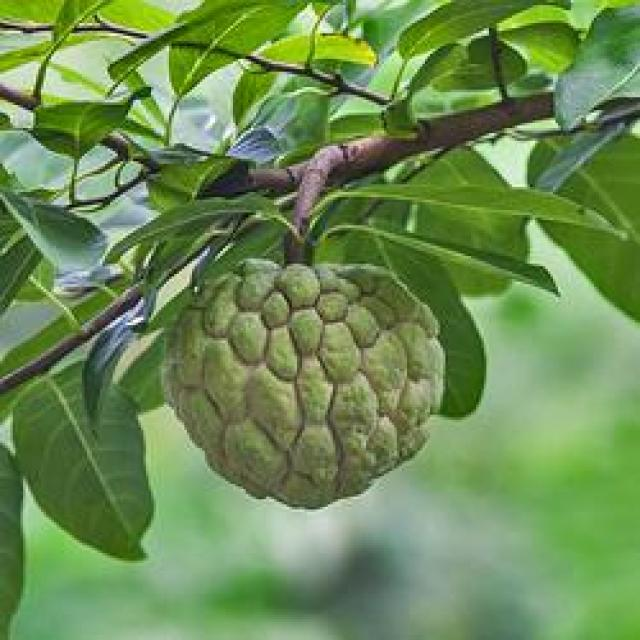apple: (161, 248, 456, 502)
